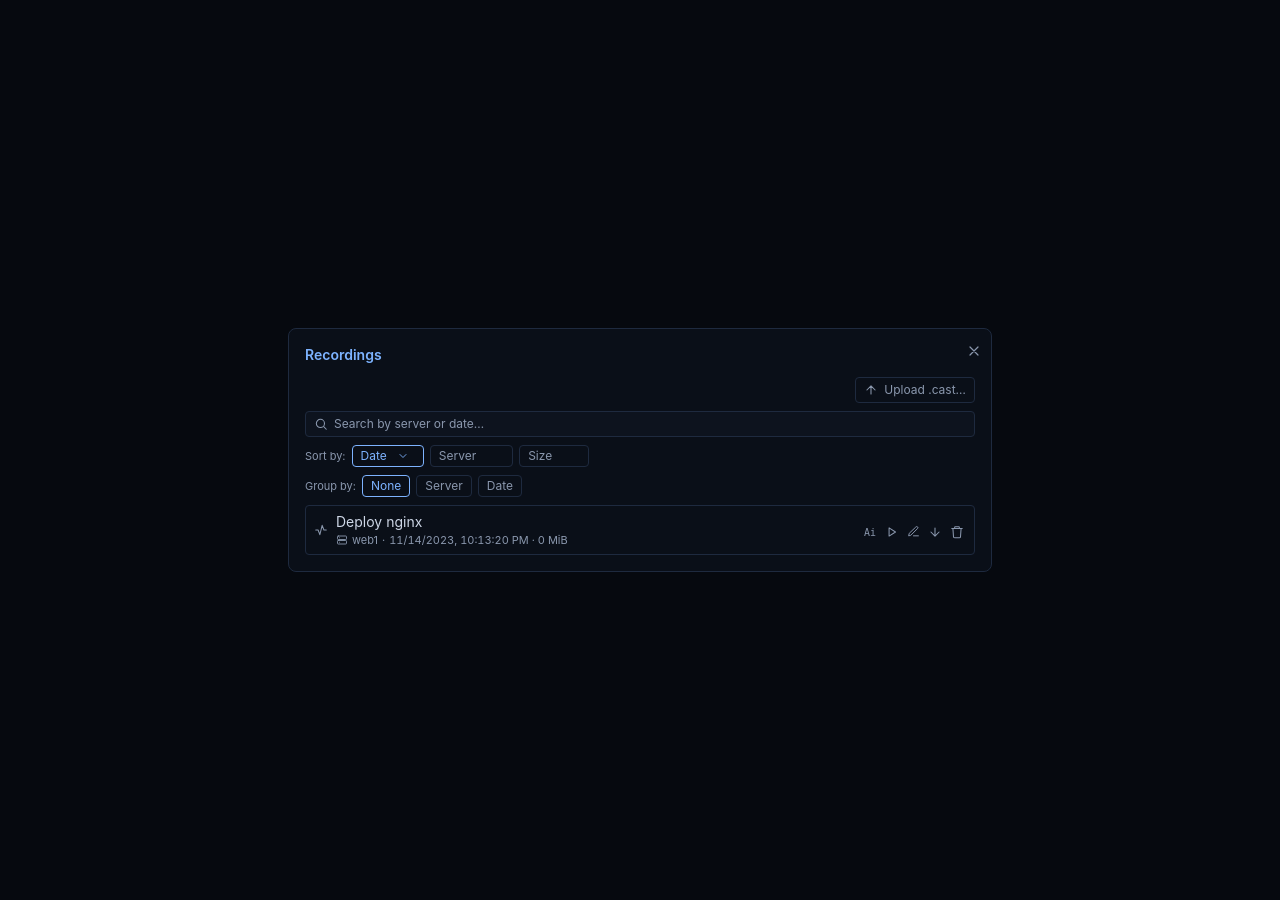
RecordingsPanel — AI generation (Phase 17.5–17.6) › consents with a redacted transcript before sending a plan
This screenshot has width=1280, height=900.
Click the button with test id "rec-ai" at (870, 530), box [861,516,879,544]
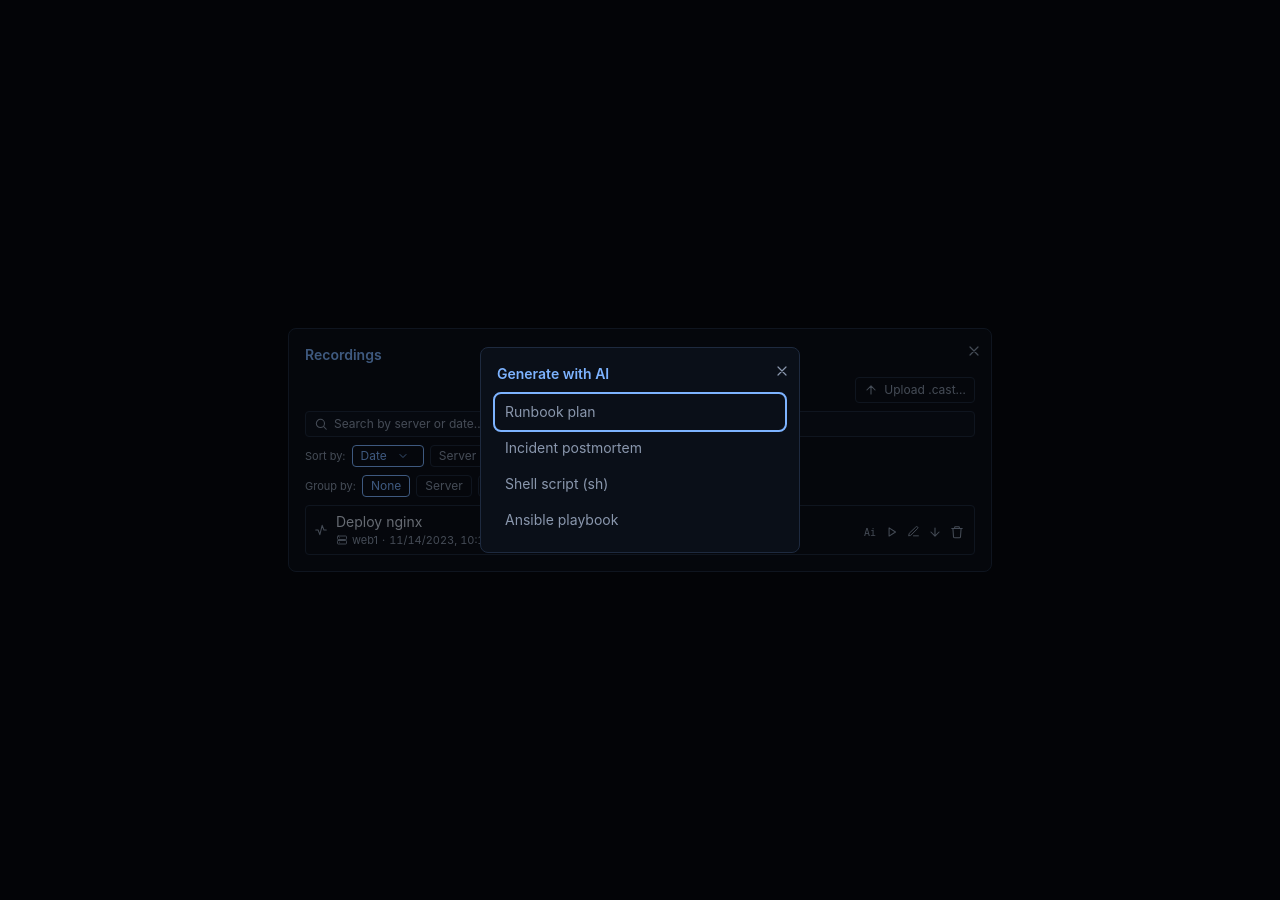
Click the button with test id "rec-gen-plan" at (550, 412), box [497,396,783,428]
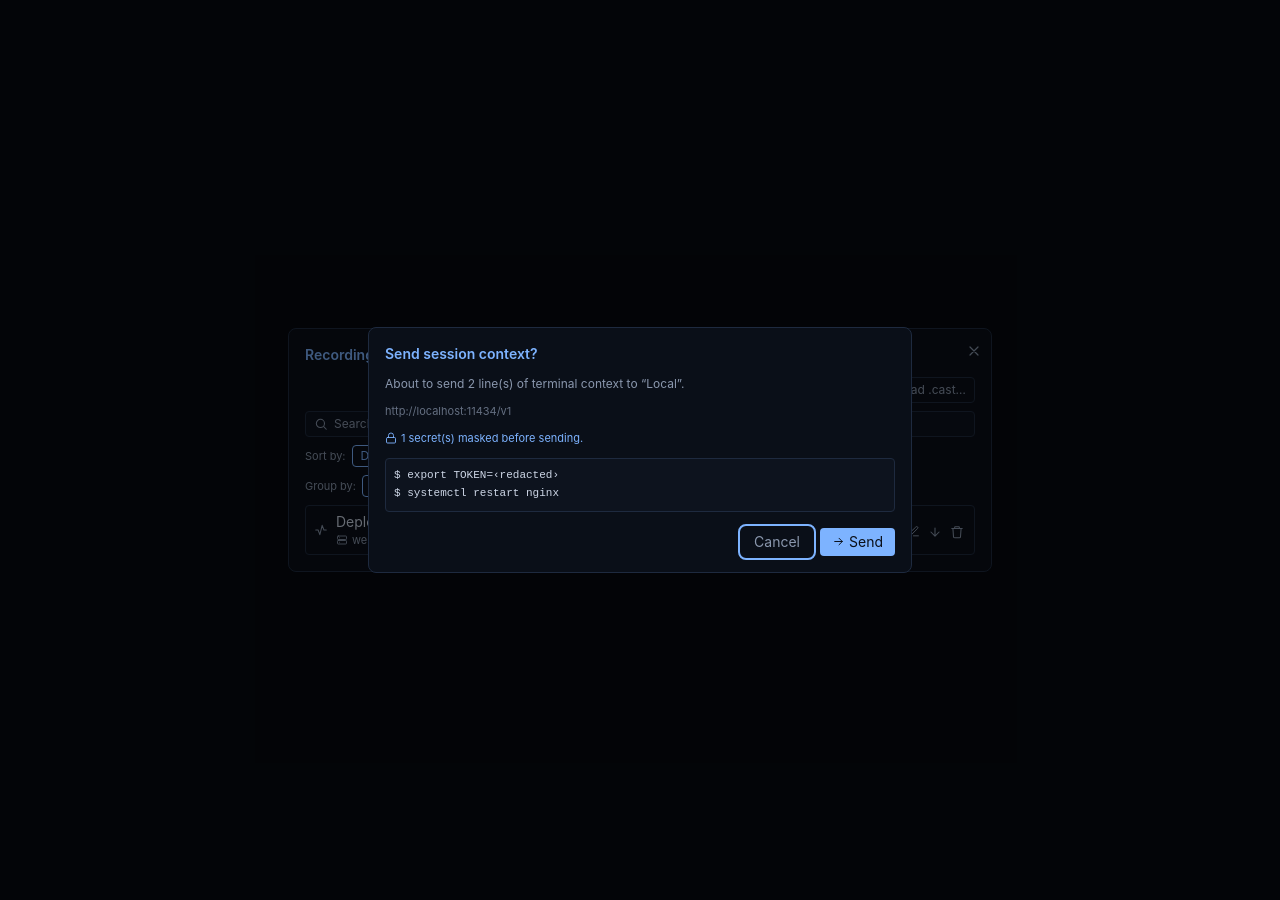
expect the text with test id "ai-consent-preview" shows "systemctl restart nginx": met, box [394,469,559,499]
expect the text with test id "ai-consent-preview" shows "‹redacted›": met, box [394,469,559,499]
